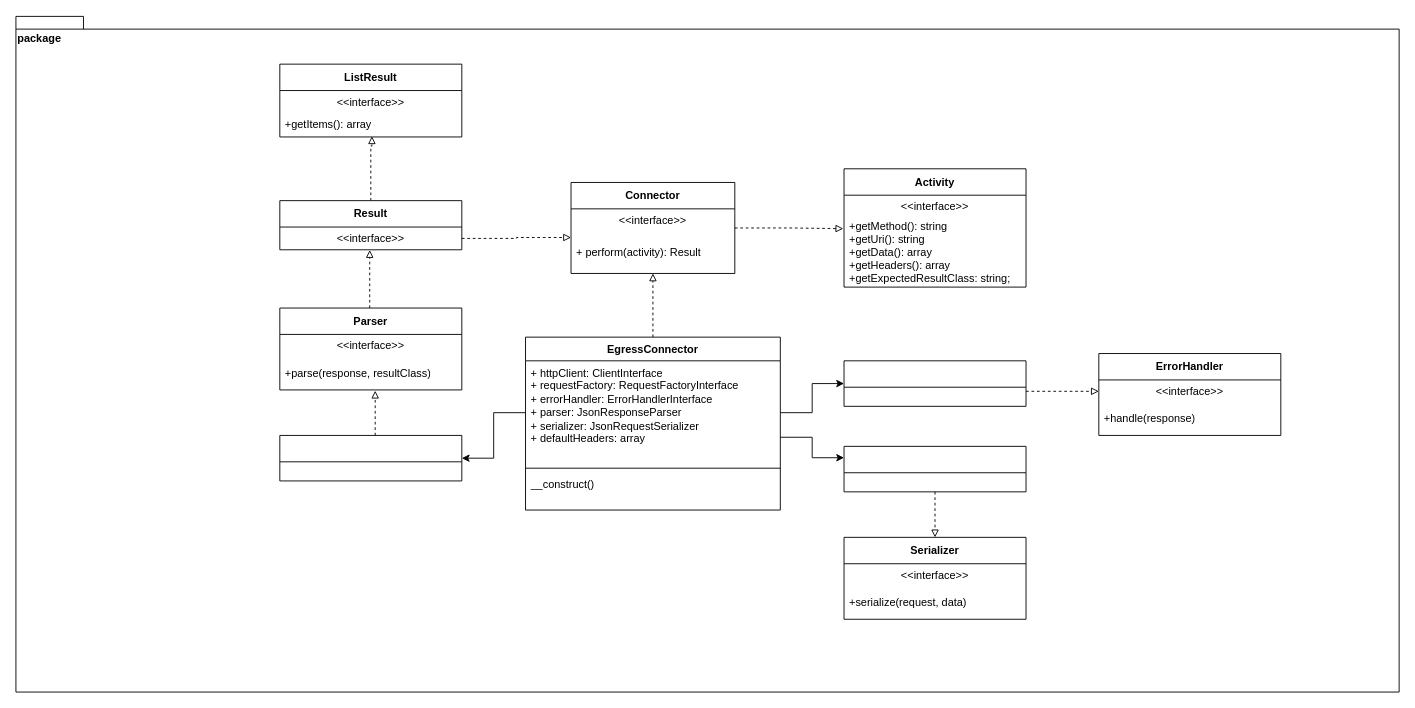
Image size: 1415x708. Some labels were removed from this diagram. The centre of each missing label's shape, as x and y in pixels:
"BasicErrorHandler" goes at [934,383].
"JsonRequestSerializer" goes at [934,468].
"JsonResponseParser" goes at [370,458].
